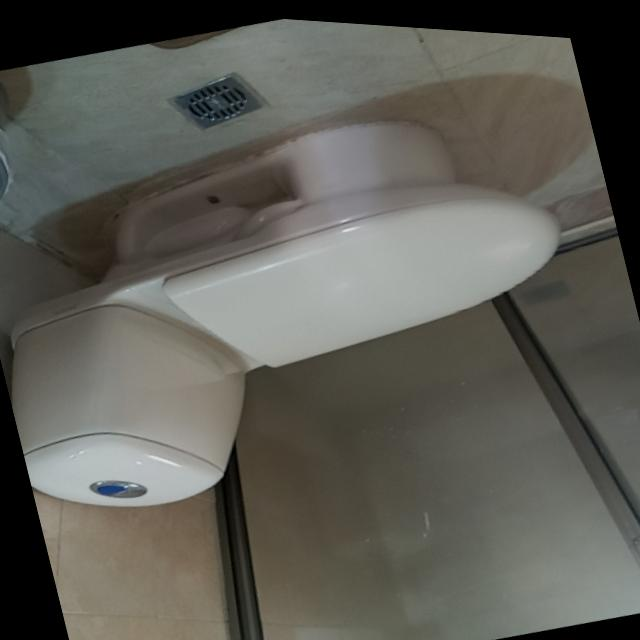toilet: (0, 49, 614, 563)
